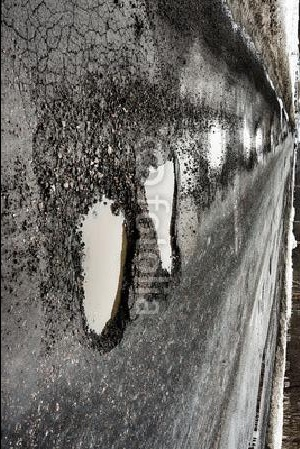pothole: (74, 179, 142, 352), (142, 152, 184, 282), (204, 117, 230, 170), (242, 119, 254, 162), (255, 124, 265, 159)
